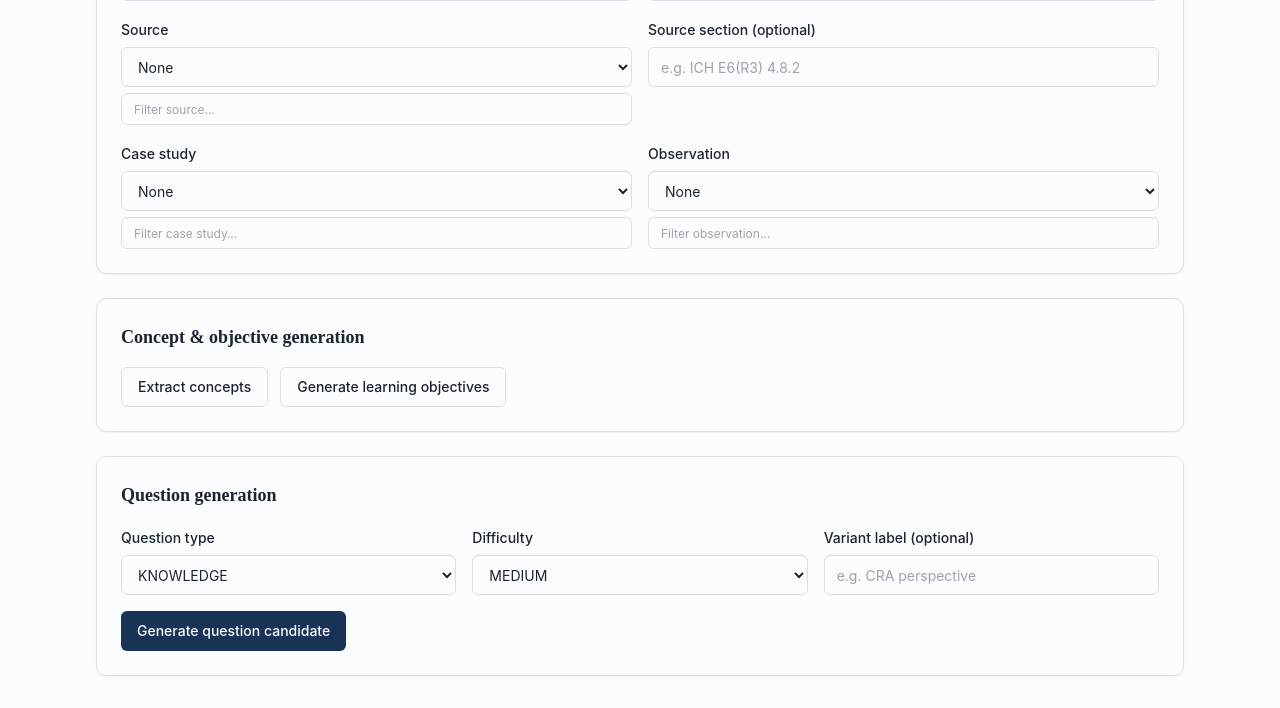
Test: AI workspace page › surfaces a provider failure as an inline error rather than crashing
(page scrolled)
Click the button "Generate question candidate": (234, 631) [121,611,346,651]
(page scrolled)
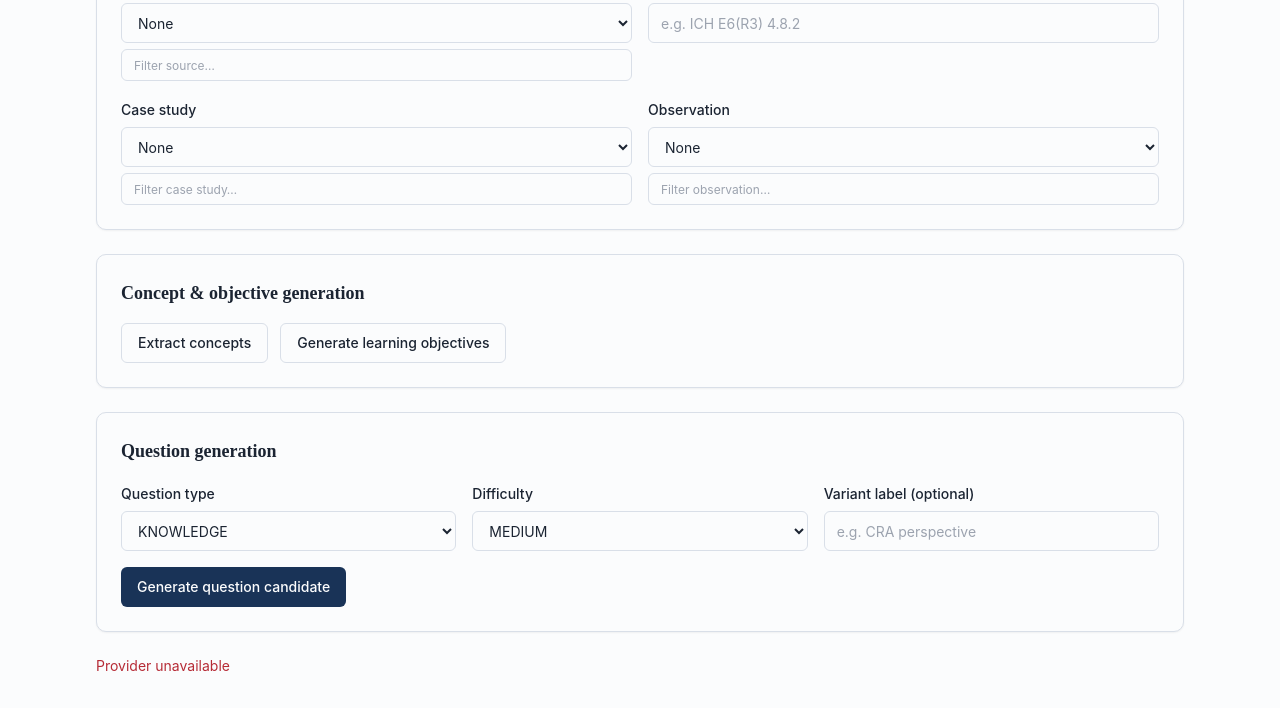
Now the text "Provider unavailable" is shown, box [96,657,230,674]
